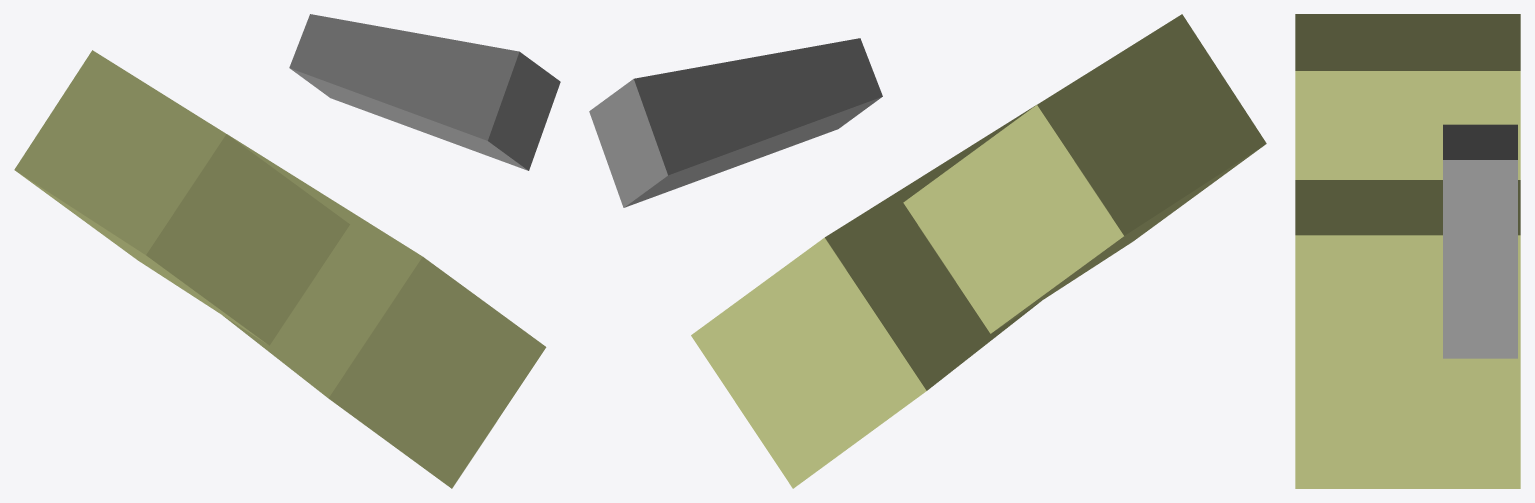
The picture shows the model from 3 angles, left to right: view 1: azimuth 30°, elevation 25°; view 2: azimuth 150°, elevation 25°; view 3: azimuth 270°, elevation 25°; orthographic projection. The views are drawn at different scales.
Visible parts, largest first — view 1: 0_1_0_0_2_1_0_3_0_0; view 2: 0_1_0_0_2_1_0_3_0_0; view 3: 0_1_0_0_2_1_0_3_0_0.
Boxes of the visible parts, left/top/right/bottom form: 0_1_0_0_2_1_0_3_0_0: left=14, top=14, right=560, bottom=488; 0_1_0_0_2_1_0_3_0_0: left=589, top=14, right=1266, bottom=488; 0_1_0_0_2_1_0_3_0_0: left=1295, top=14, right=1520, bottom=488.
Size of the model in its own units: 21.18 by 16.31 by 9.
